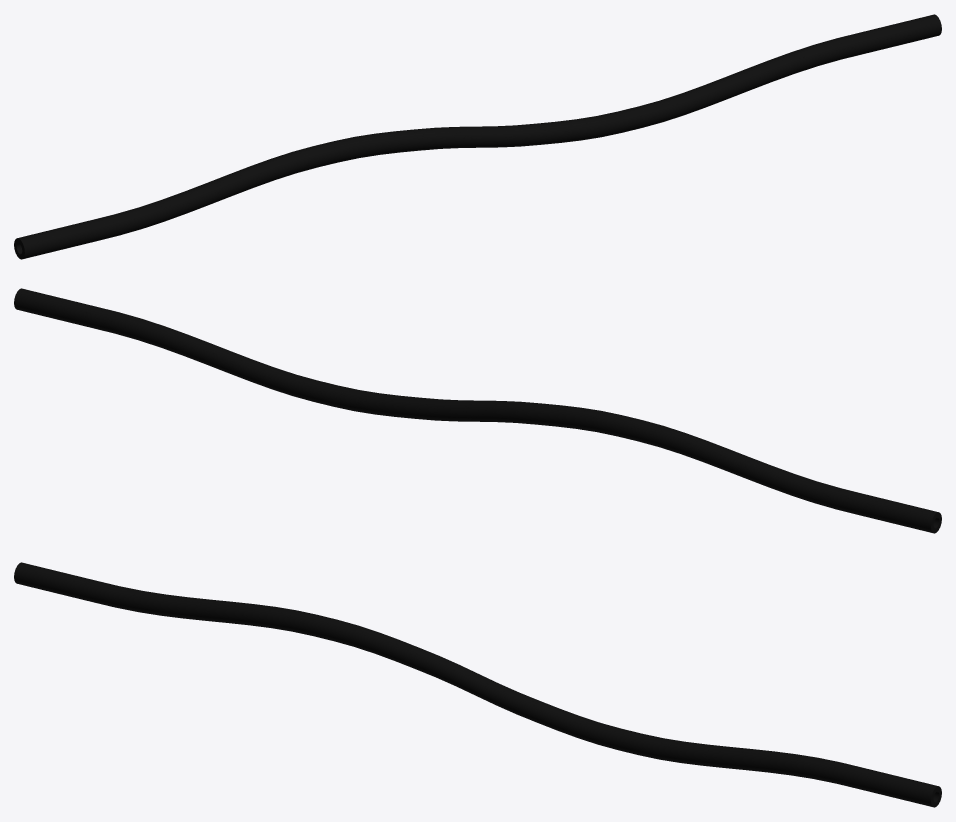
The picture shows the model from 3 angles, top to bottom: view 1: azimuth 30°, elevation 25°; view 2: azimuth 150°, elevation 25°; view 3: azimuth 330°, elevation 25°; orthographic projection.
Visible parts, largest first — view 1: SB_Kevlar-03; view 2: SB_Kevlar-03; view 3: SB_Kevlar-03.
Part boxes in pixels (bbox=[...]): SB_Kevlar-03: bbox=[14, 14, 941, 259]; SB_Kevlar-03: bbox=[14, 288, 941, 533]; SB_Kevlar-03: bbox=[14, 562, 941, 807].
Bounding box in the file's own units: 0.3074 × 0.0191 × 0.00635.
Materials: 1 (1 with a texture image).
